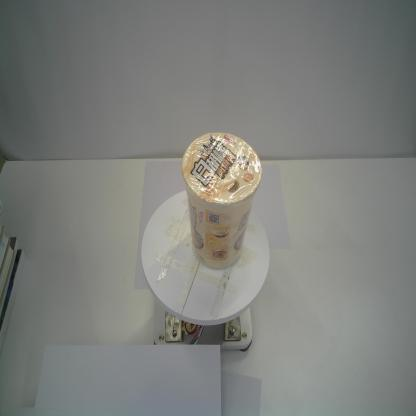Instant Noodles: (178, 130, 264, 271)
